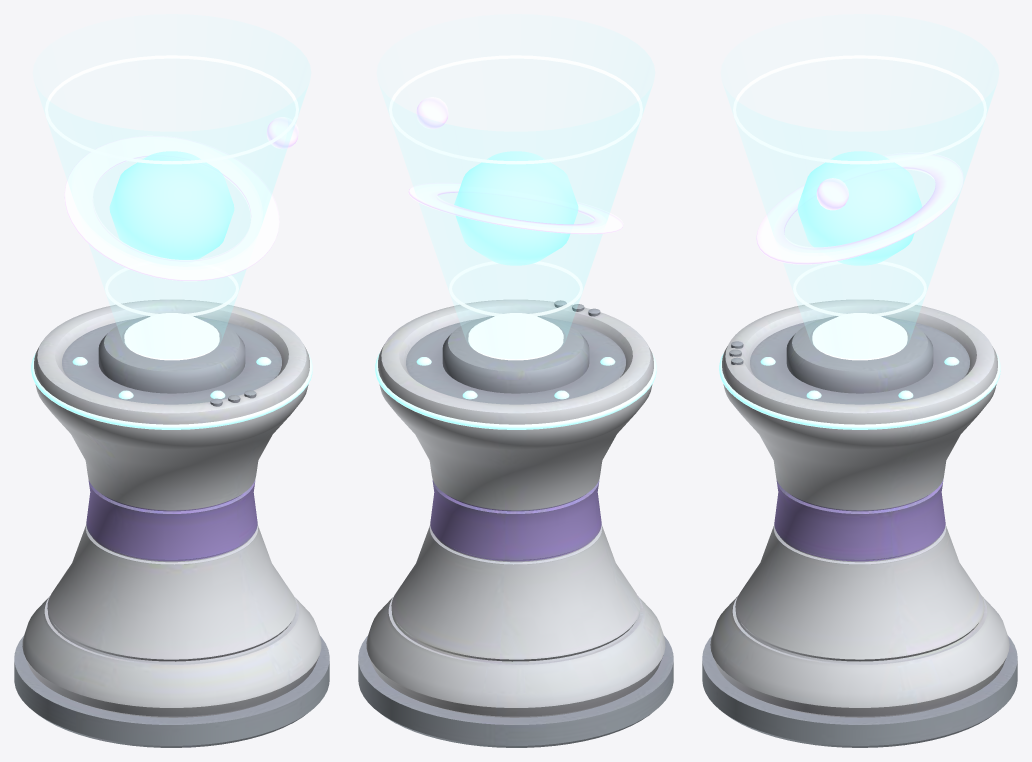
Rendered from hologram-projector.glb.
3 renders of one model, left to right at view 1: azimuth 30°, elevation 25°; view 2: azimuth 150°, elevation 25°; view 3: azimuth 270°, elevation 25°, orthographic.
Parts seen in each view (by area): view 1: hologram-projector_body, hologram-projector_hologram_glow, hologram-projector_lights_glow; view 2: hologram-projector_body, hologram-projector_hologram_glow, hologram-projector_lights_glow; view 3: hologram-projector_body, hologram-projector_hologram_glow, hologram-projector_lights_glow.
Part boxes in pixels (x1=…): hologram-projector_body: x1=14, y1=299, x2=329, y2=747; hologram-projector_hologram_glow: x1=35, y1=55, x2=308, y2=337; hologram-projector_lights_glow: x1=31, y1=313, x2=312, y2=429; hologram-projector_body: x1=358, y1=299, x2=673, y2=747; hologram-projector_hologram_glow: x1=379, y1=55, x2=652, y2=337; hologram-projector_lights_glow: x1=375, y1=313, x2=656, y2=429; hologram-projector_body: x1=702, y1=299, x2=1017, y2=747; hologram-projector_hologram_glow: x1=723, y1=55, x2=996, y2=337; hologram-projector_lights_glow: x1=719, y1=313, x2=1000, y2=429.
Size of the model in its own units: 0.464 by 0.99 by 0.464.
Materials: 7 (1 with a texture image).
